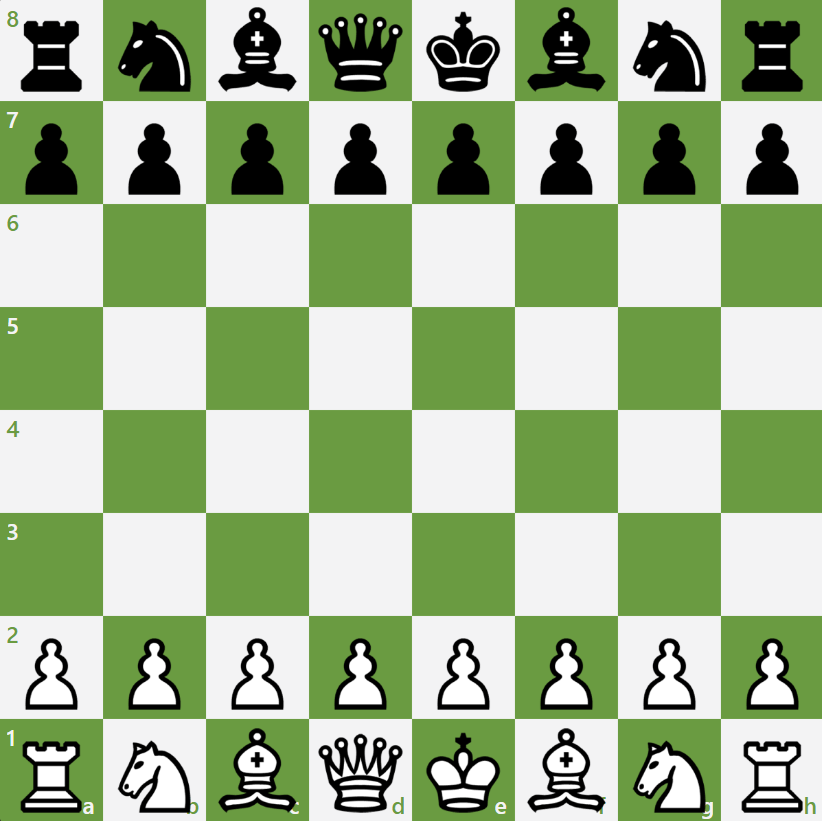black_bishop: (515, 1, 620, 99), (207, 1, 307, 101)
black_king: (412, 1, 514, 102)
black_knight: (101, 1, 207, 101), (620, 1, 720, 102)
black_pawn: (205, 103, 310, 203), (620, 99, 720, 203), (103, 103, 205, 203), (1, 104, 104, 203), (517, 103, 618, 203), (311, 104, 413, 203), (415, 104, 513, 204), (723, 103, 820, 202)
black_queen: (309, 1, 412, 102)
black_rook: (1, 1, 102, 102), (720, 1, 821, 102)
white_bishop: (518, 718, 619, 821), (208, 718, 308, 821)
white_king: (413, 717, 516, 821)
white_knight: (620, 718, 721, 821), (101, 721, 205, 819)
white_pawn: (617, 616, 723, 717), (309, 617, 411, 721), (1, 616, 104, 718), (206, 616, 308, 717), (721, 616, 822, 718), (414, 617, 515, 718), (515, 616, 616, 717), (104, 617, 205, 717)
white_queen: (309, 721, 413, 821)
white_rook: (720, 718, 820, 819), (2, 720, 101, 817)
